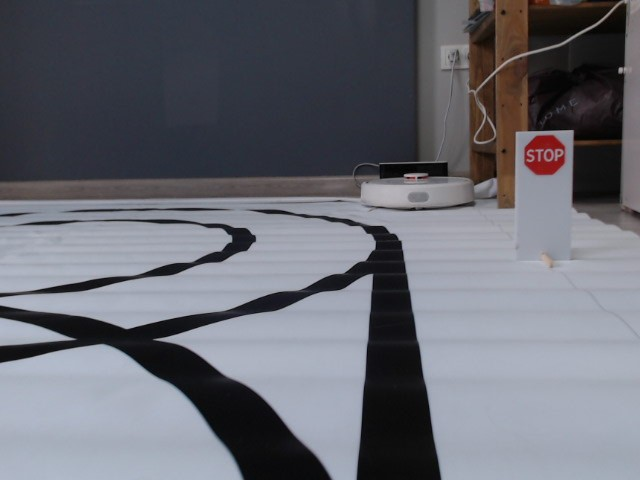Stop: (523, 134, 565, 175)
